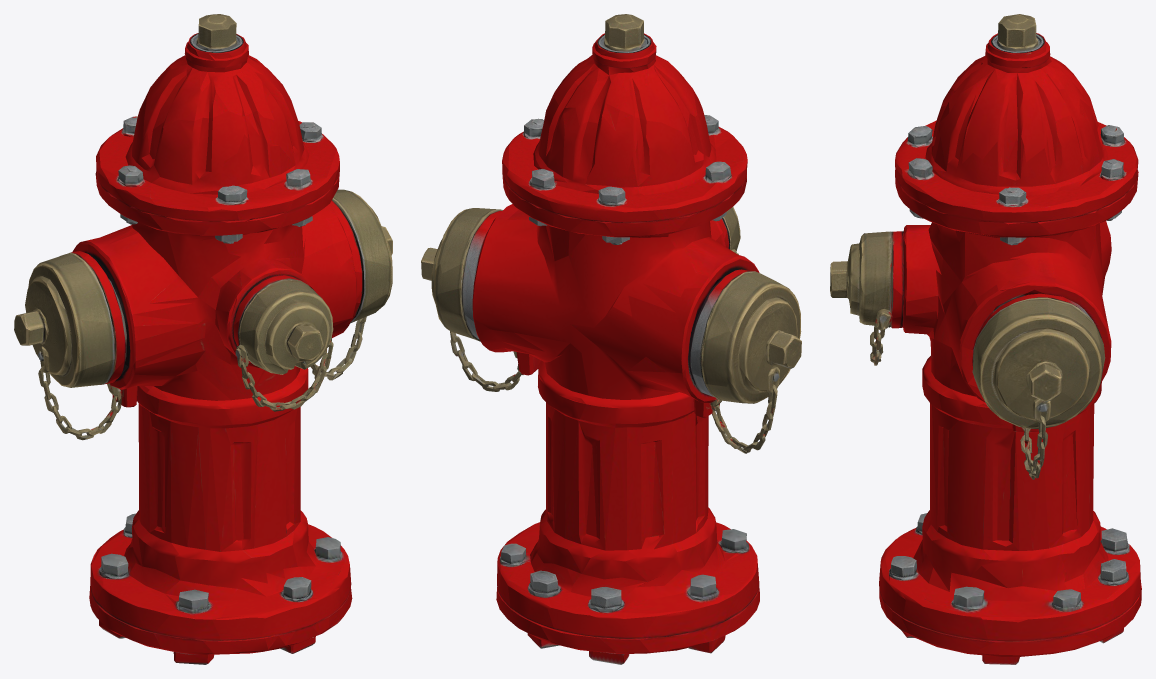
The model's file is hydrant.glb.
3 views of the same model, side by side, from view 1: azimuth 30°, elevation 25°; view 2: azimuth 150°, elevation 25°; view 3: azimuth 270°, elevation 25° (orthographic).
Parts seen in each view (by area): view 1: output_unwrapped; view 2: output_unwrapped; view 3: output_unwrapped.
Boxes of the visible parts, box(x1,y1,x2,y2) form: output_unwrapped: box(14, 14, 392, 664); output_unwrapped: box(421, 14, 801, 664); output_unwrapped: box(830, 14, 1141, 664).
Bounding box in the file's own units: 0.5469 × 0.85 × 0.4003.
1 material, 1 textured.
